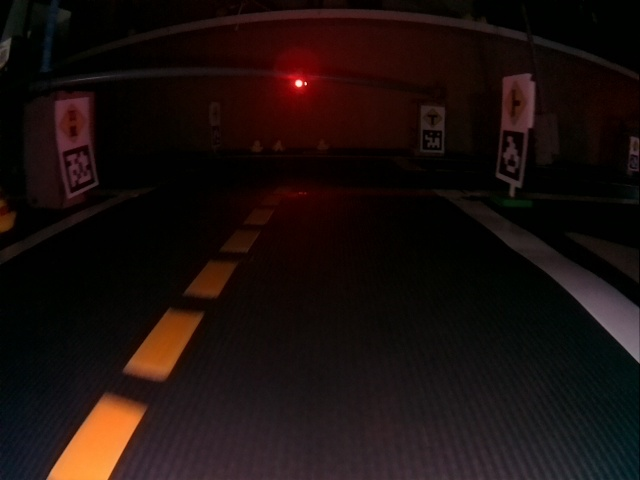Intersection sign: (503, 79, 528, 122), (423, 108, 443, 127)
QR code: (61, 146, 97, 194), (497, 129, 526, 183), (421, 130, 444, 152)
Signal sign: (58, 102, 89, 145)
Traffic light: (292, 72, 305, 90)
